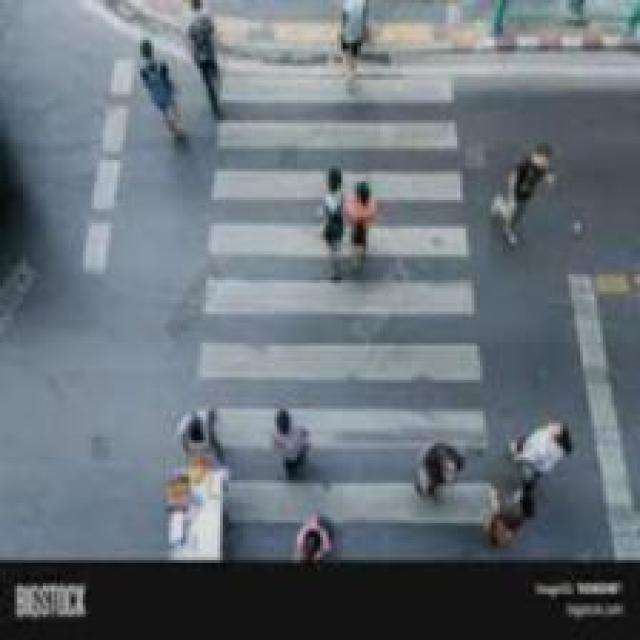walk-crossing: (205, 69, 469, 528)
